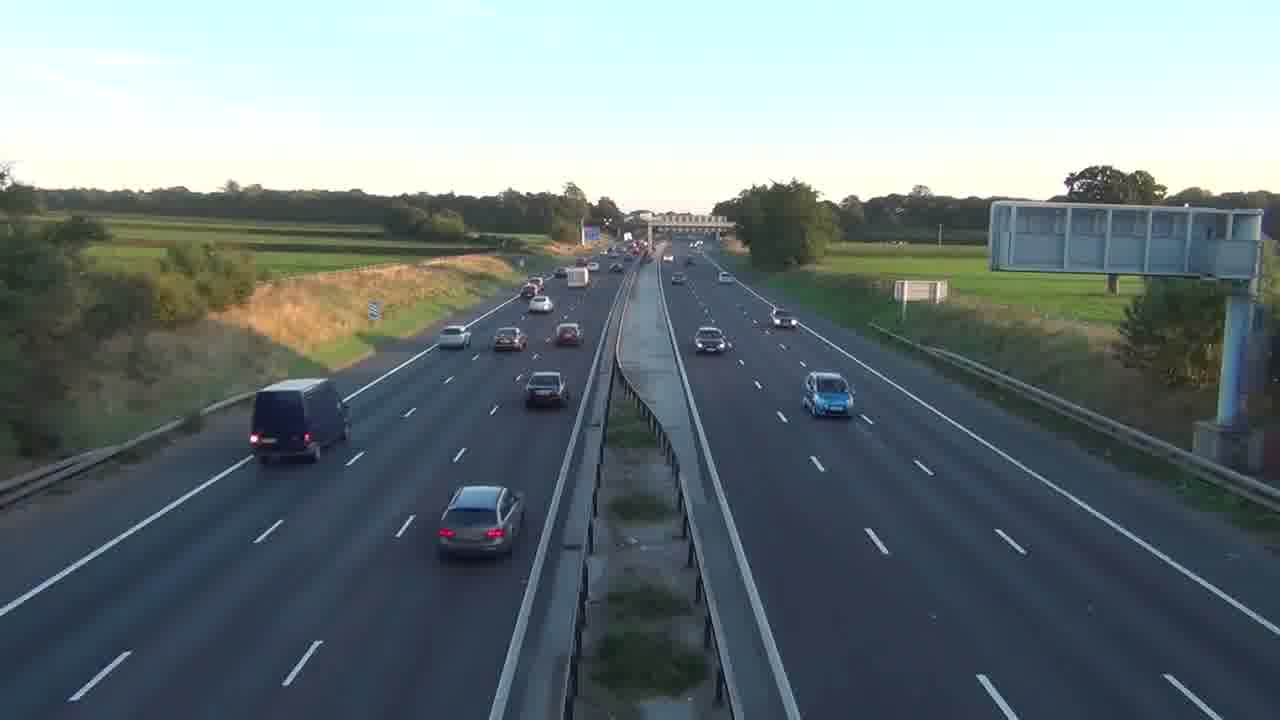bus: (248, 376, 351, 464)
car: (435, 484, 525, 562), (800, 370, 854, 418), (524, 370, 567, 408), (492, 326, 526, 352), (439, 325, 471, 350), (555, 320, 583, 347)
truck: (248, 376, 351, 464)
